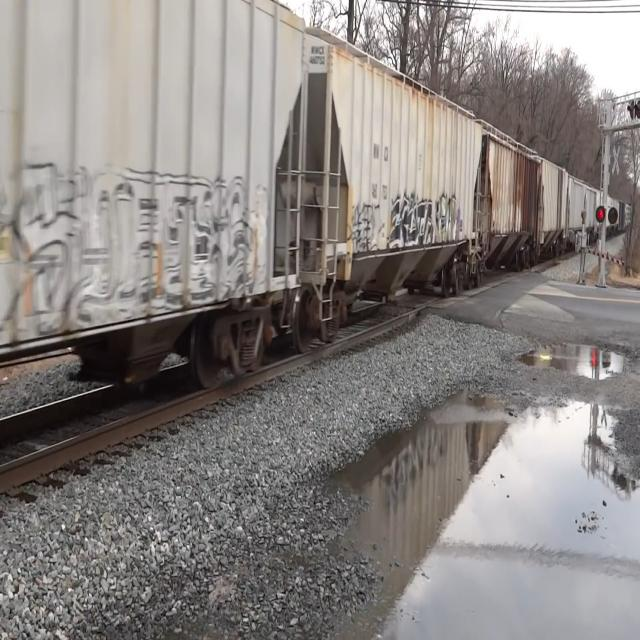hopper: (0, 0, 307, 409), (313, 15, 489, 340)
